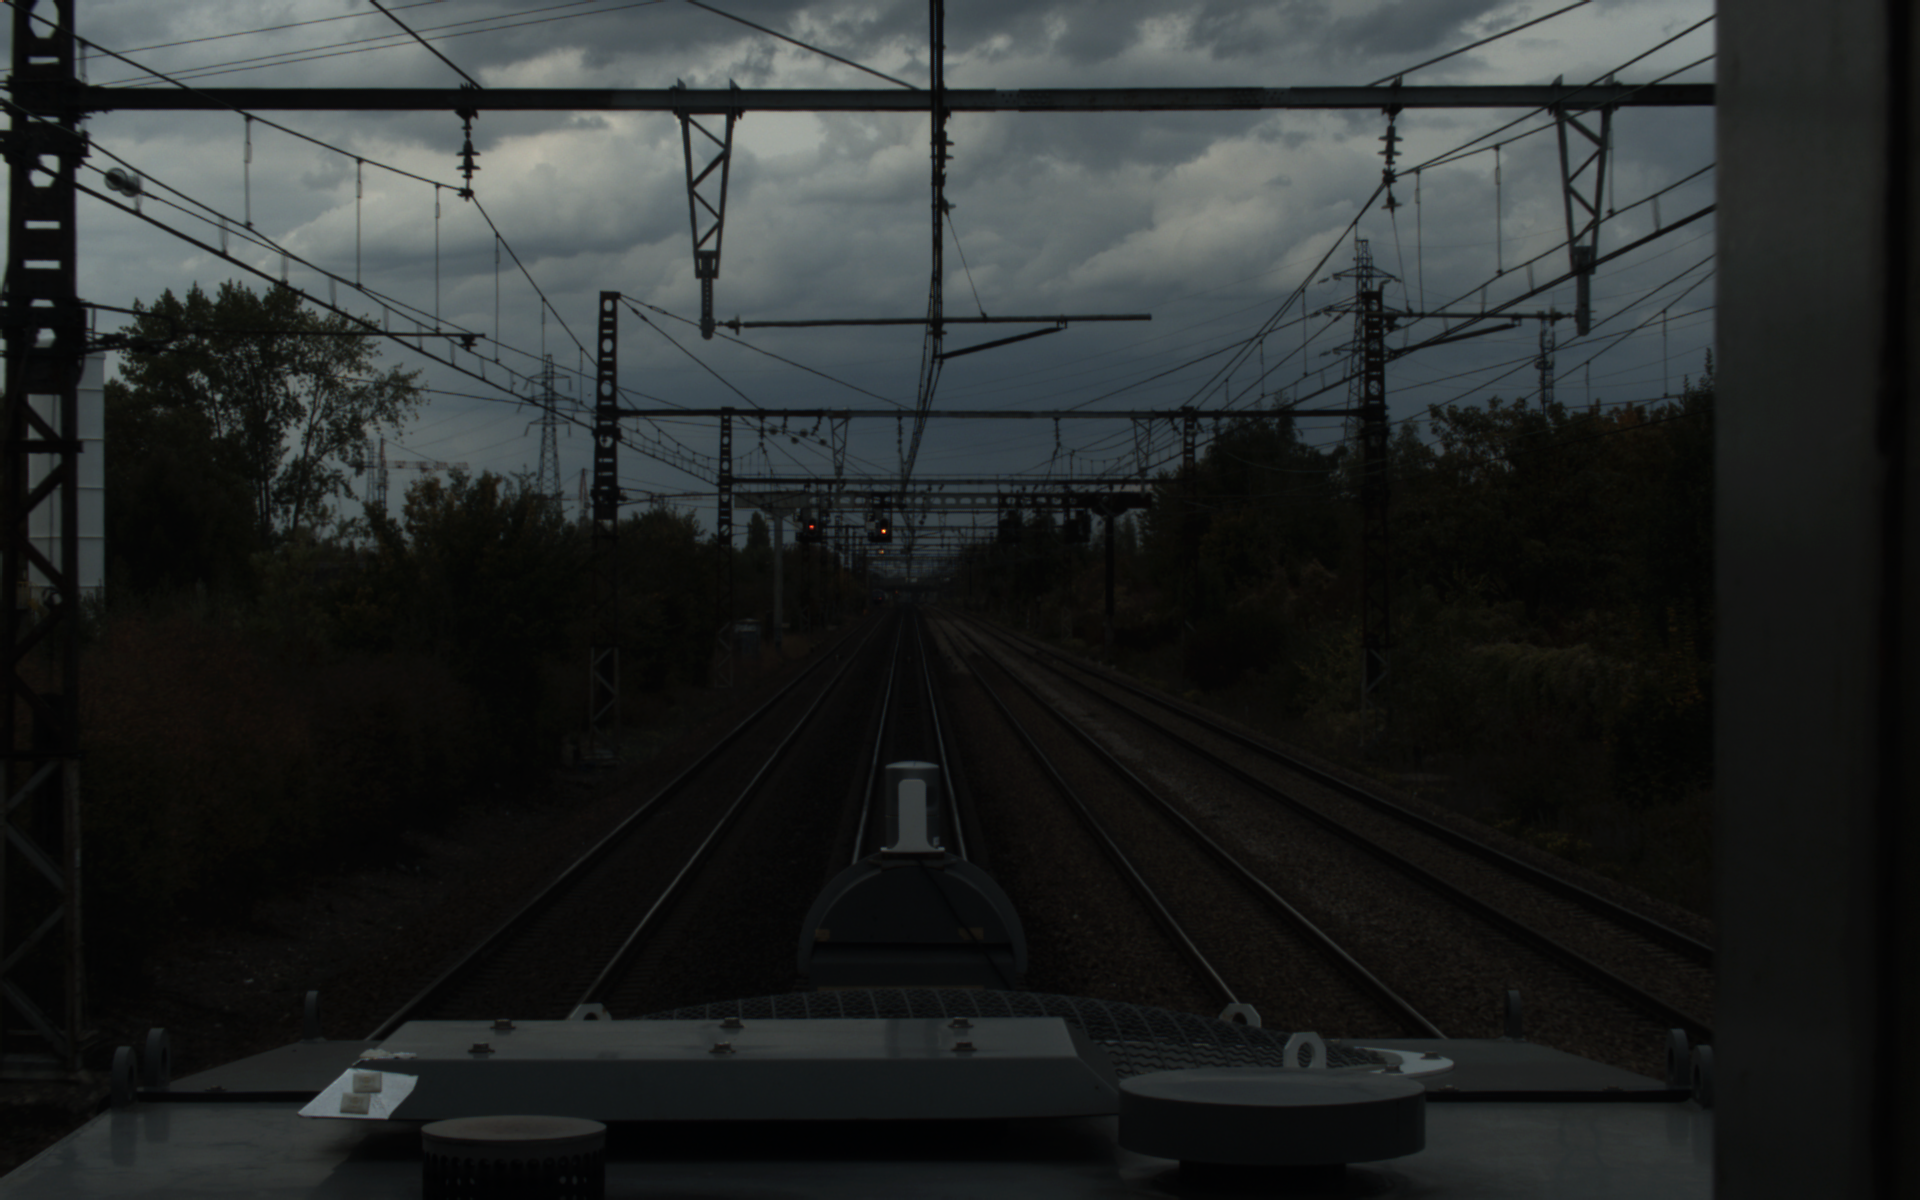Blinking: (876, 516, 890, 538), (804, 516, 818, 536)
